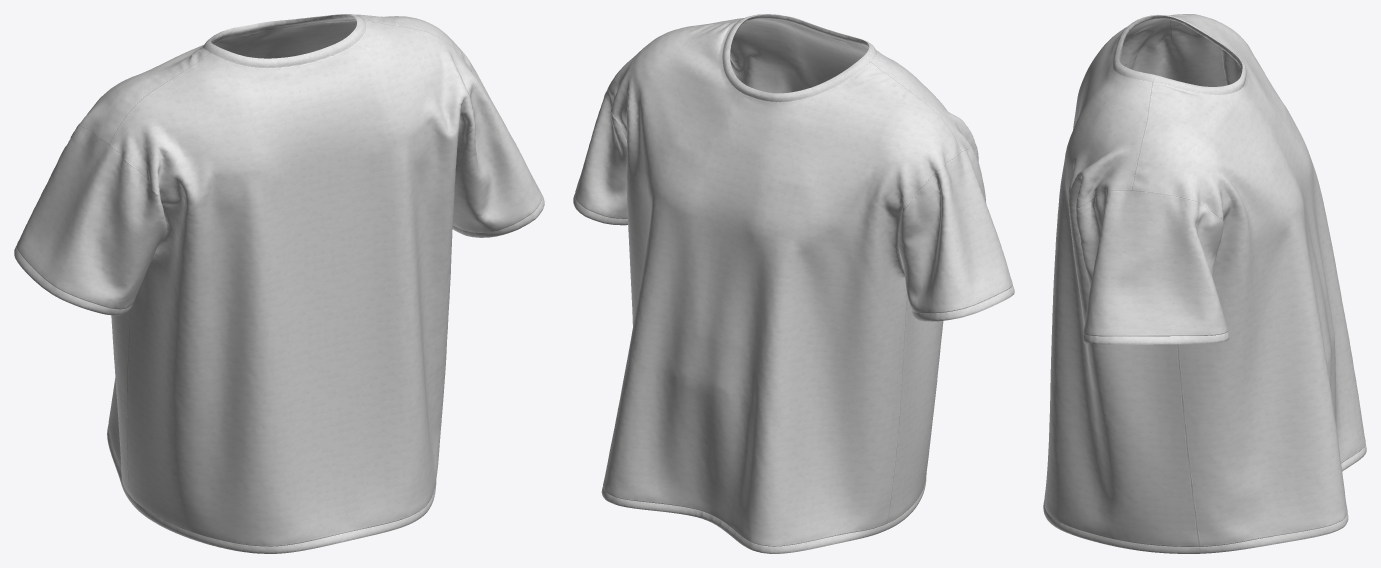
File: tshirt01.glb
3 renders of one model, left to right at view 1: azimuth 30°, elevation 25°; view 2: azimuth 150°, elevation 25°; view 3: azimuth 270°, elevation 25°, orthographic. The views are drawn at different scales.
Visible parts, largest first — view 1: Object_4.001, Object_5.001, Object_3.001, Object_2.002; view 2: Object_4.001, Object_3.001, Object_5.001, Object_2.002; view 3: Object_4.001, Object_3.001, Object_5.001, Object_2.002.
Part boxes in pixels (x1,y1,x2,y2): Object_4.001: (87,14,541,546); Object_5.001: (127,31,472,538); Object_3.001: (15,14,475,546); Object_2.002: (14,193,544,553); Object_4.001: (575,18,978,546); Object_3.001: (611,14,1012,545); Object_5.001: (730,18,974,515); Object_2.002: (573,194,1014,553); Object_4.001: (1044,14,1365,546); Object_3.001: (1052,14,1361,546); Object_5.001: (1046,19,1194,541); Object_2.002: (1043,332,1366,553).
Bounding box in the file's own units: 0.7337 × 0.7139 × 0.4641.
1 material, 1 textured.
